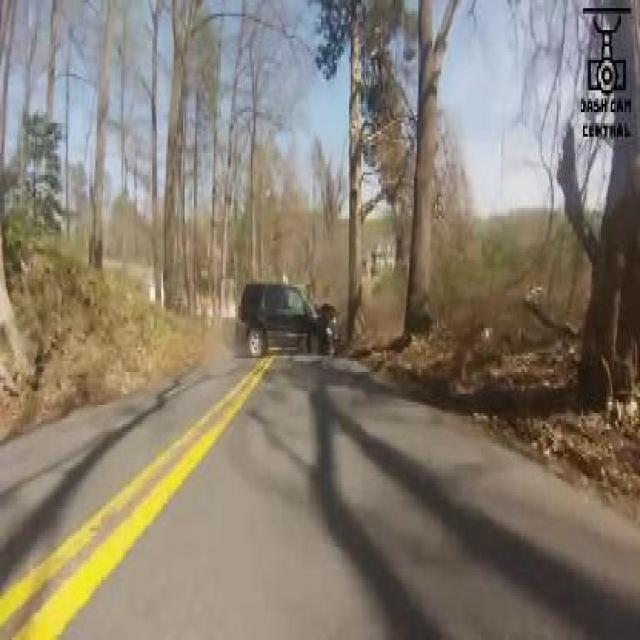accident: (229, 241, 365, 358)
